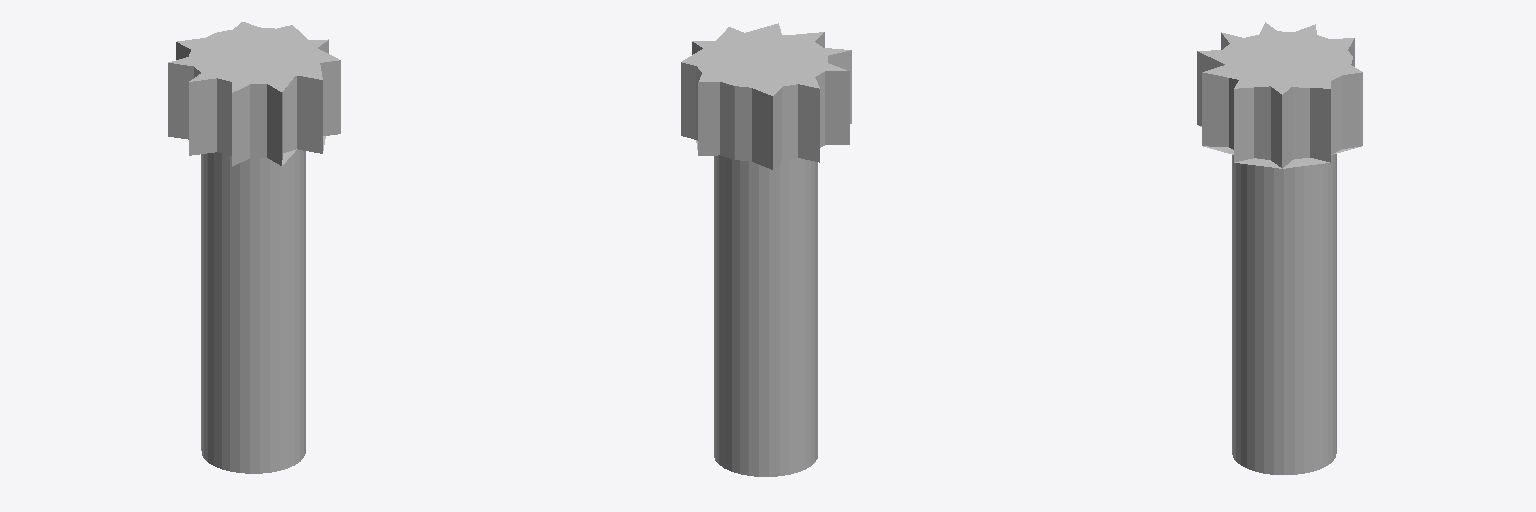
The model's file is PERILLA01.obj.
The picture shows the model from 3 angles: view 1: azimuth 30°, elevation 25°; view 2: azimuth 150°, elevation 25°; view 3: azimuth 270°, elevation 25°; orthographic projection.
Parts seen in each view (by area): view 1: Cylinder.002; view 2: Cylinder.002; view 3: Cylinder.002.
Boxes of the visible parts, x1=… form: Cylinder.002: x1=168, y1=22, x2=340, y2=473; Cylinder.002: x1=681, y1=23, x2=851, y2=476; Cylinder.002: x1=1197, y1=22, x2=1362, y2=474.
Size of the model in its own units: 0.1192 by 0.3012 by 0.1146.